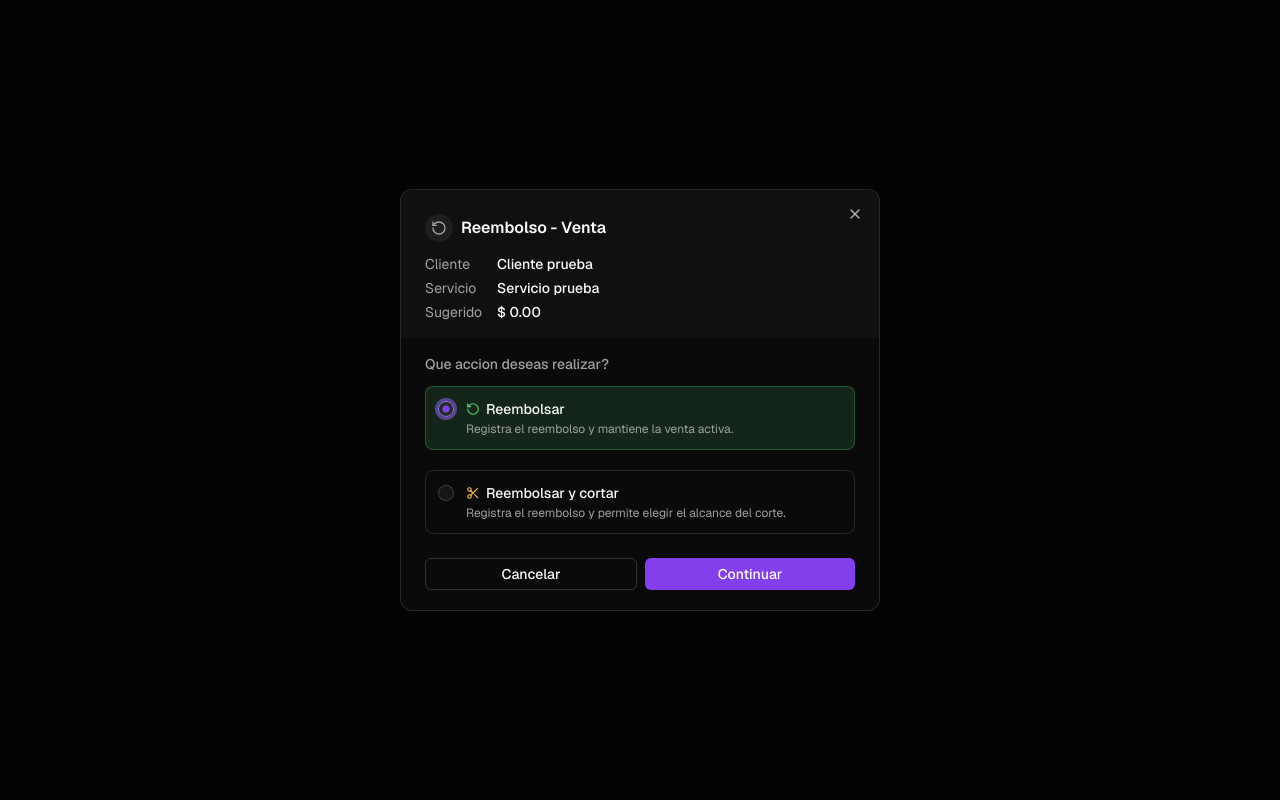
VentaReembolsoDialog › updates the suggested and editable amounts when the date changes
Click the button "Continuar": (750, 574) [645, 558, 855, 590]
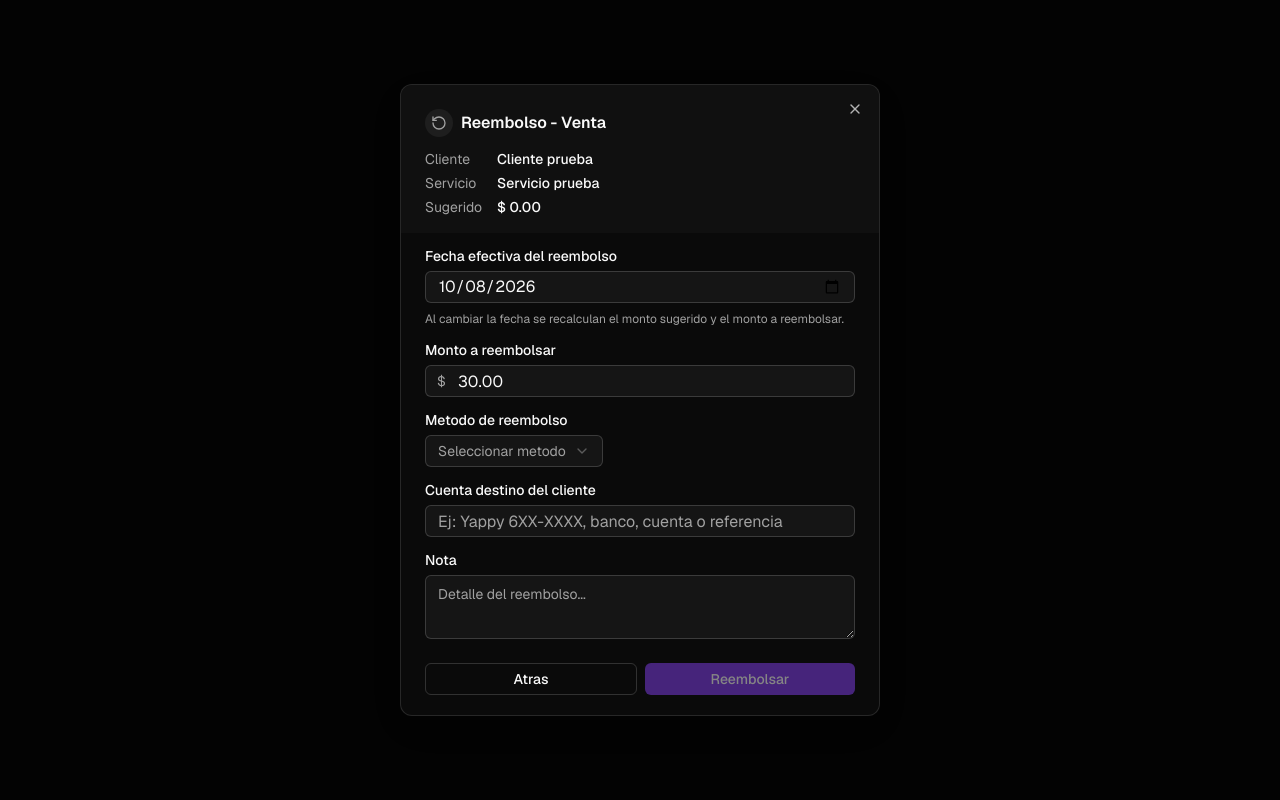
In the date field labelled "Fecha efectiva del reembolso": (640, 287) [425, 271, 855, 303], type "2026-09-16"
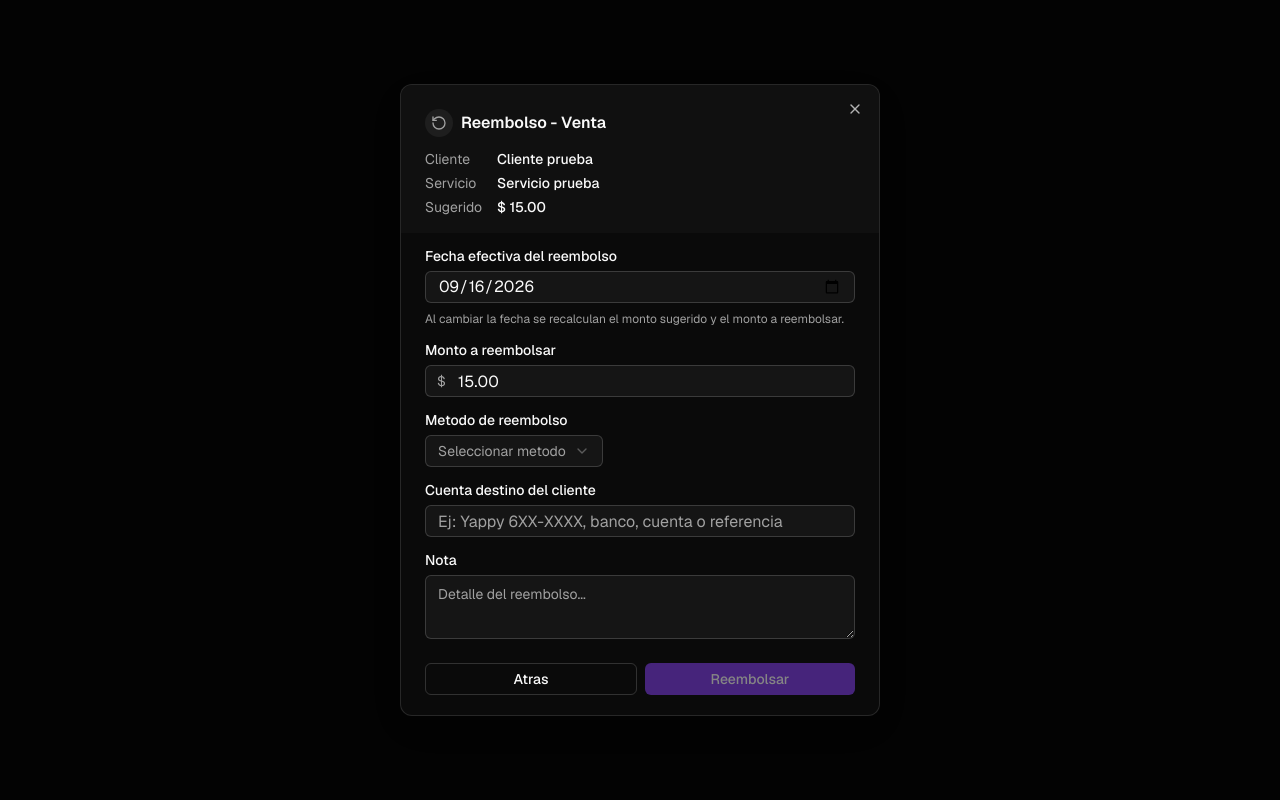
Expected: the text with test id "refund-suggested-amount" reads "$ 15.00", [497, 197, 546, 217]
Expected: the number field labelled "Monto a reembolsar" holds "15.00", [425, 365, 855, 397]
